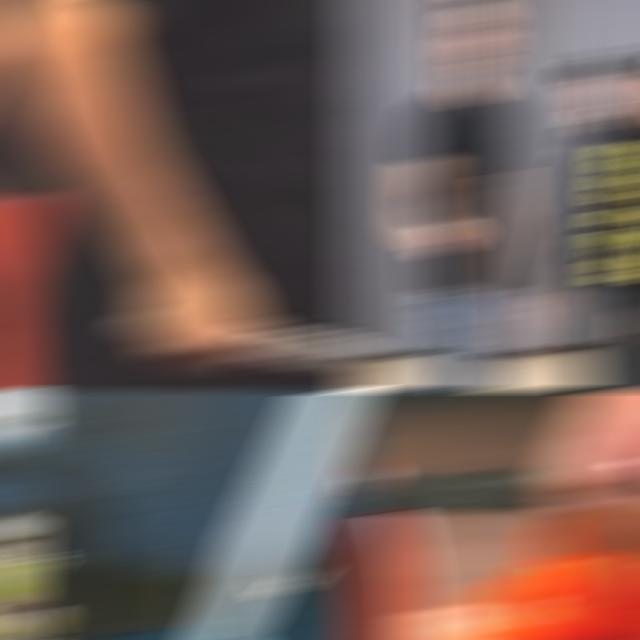Knife: (188, 392, 370, 638), (346, 454, 640, 511), (229, 318, 370, 368)
Knife_Handle: (124, 284, 370, 376), (423, 188, 489, 254)
